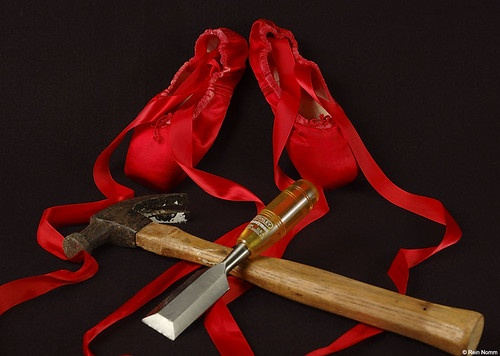hammer: (61, 191, 208, 266)
